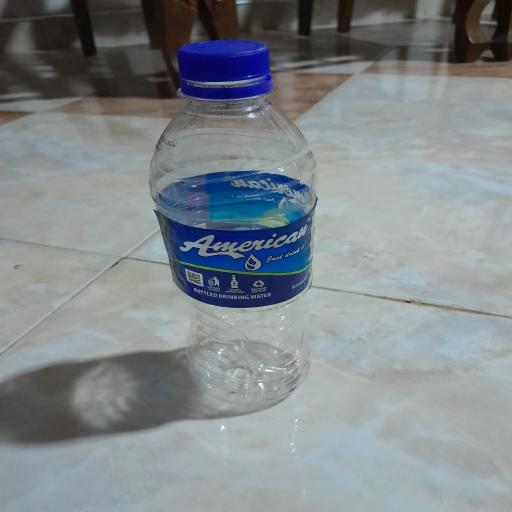waste: (134, 35, 354, 424)
